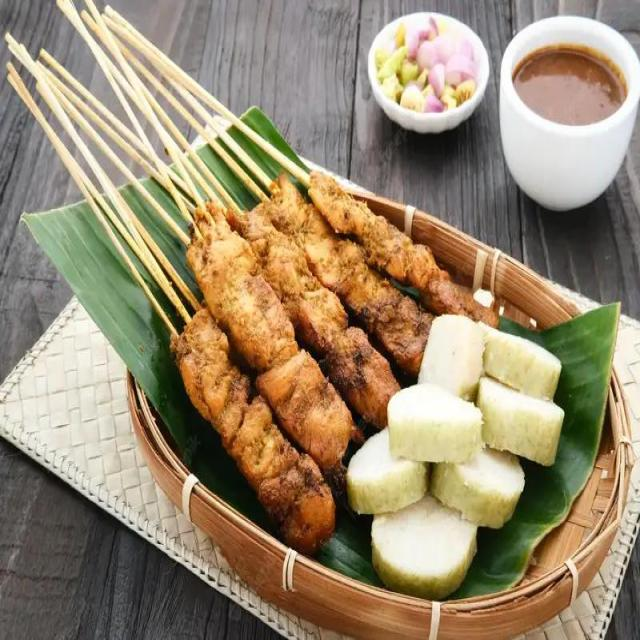Sate: (52, 69, 388, 561)
